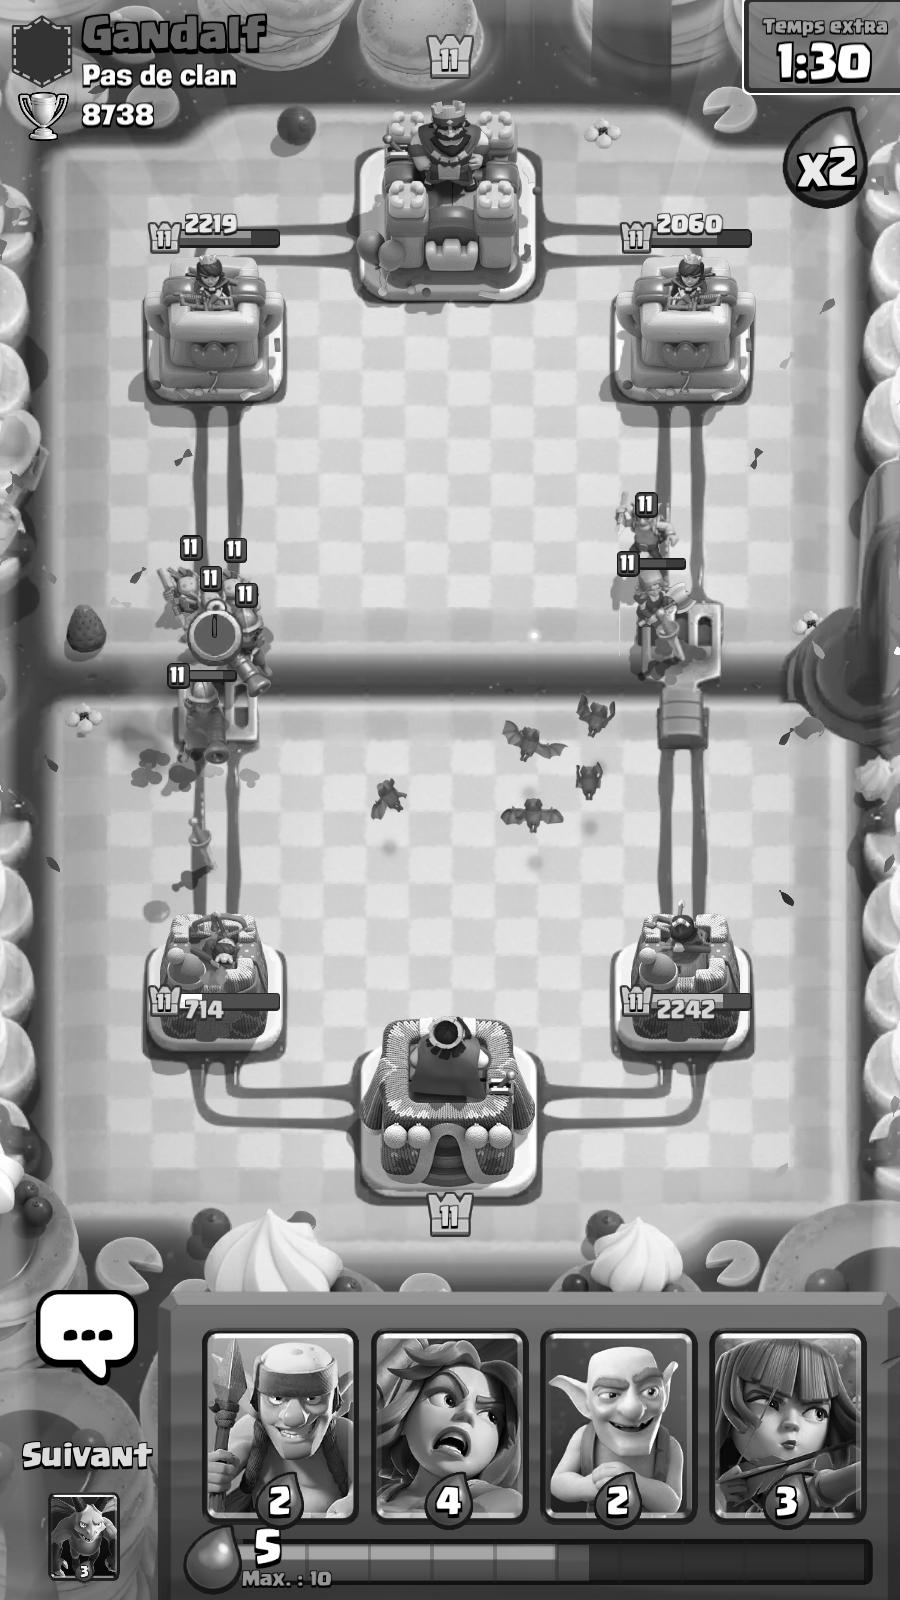bat: (499, 720, 568, 766), (498, 793, 566, 834), (566, 760, 614, 805), (369, 771, 411, 823), (574, 693, 621, 735)
gobelin_lances: (151, 534, 220, 642), (207, 534, 273, 637), (612, 489, 689, 571), (184, 563, 245, 664)
mousquetaire: (170, 663, 237, 766), (218, 586, 274, 701), (191, 537, 192, 554)
valkyrie: (621, 546, 700, 652)
